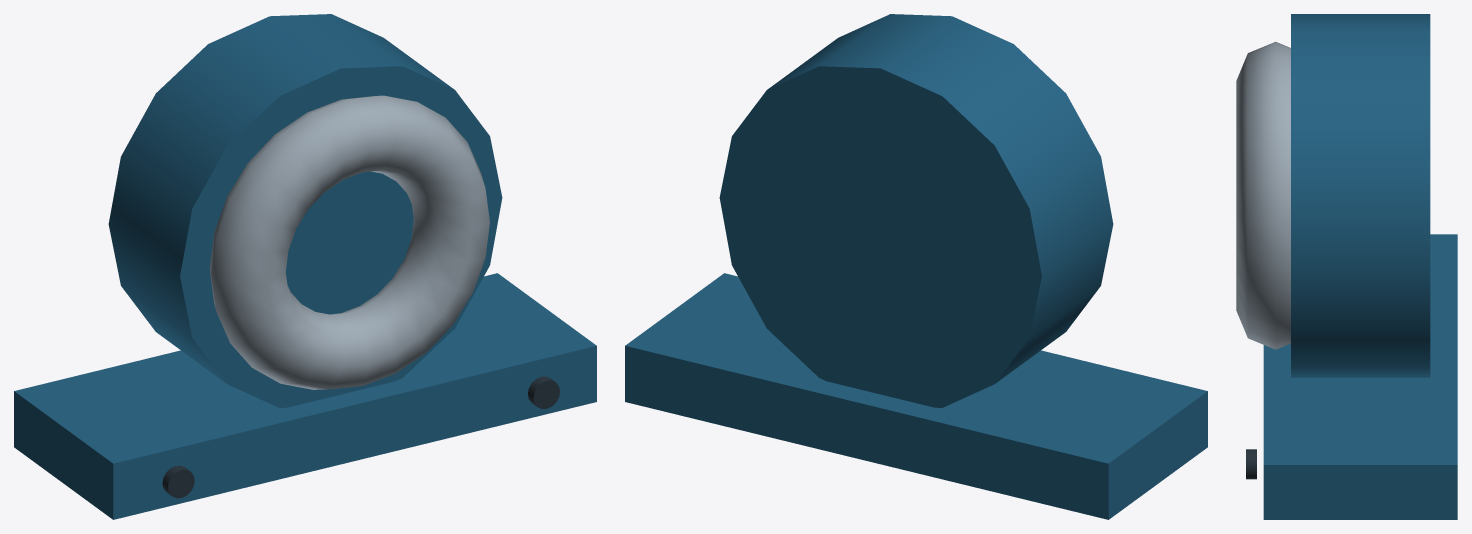
3 views of the same model, side by side, from view 1: azimuth 30°, elevation 25°; view 2: azimuth 150°, elevation 25°; view 3: azimuth 270°, elevation 25° (orthographic). The views are drawn at different scales.
Visible parts, largest first — view 1: SKF,轴承座,SNL512-610(含定位环和密封件）,; view 2: SKF,轴承座,SNL512-610(含定位环和密封件）,; view 3: SKF,轴承座,SNL512-610(含定位环和密封件）,.
Boxes of the visible parts, x1=… form: SKF,轴承座,SNL512-610(含定位环和密封件）,: x1=14, y1=14, x2=596, y2=519; SKF,轴承座,SNL512-610(含定位环和密封件）,: x1=625, y1=14, x2=1207, y2=519; SKF,轴承座,SNL512-610(含定位环和密封件）,: x1=1236, y1=14, x2=1457, y2=519.
Size of the model in its own units: 0.9 by 0.68 by 0.365.
